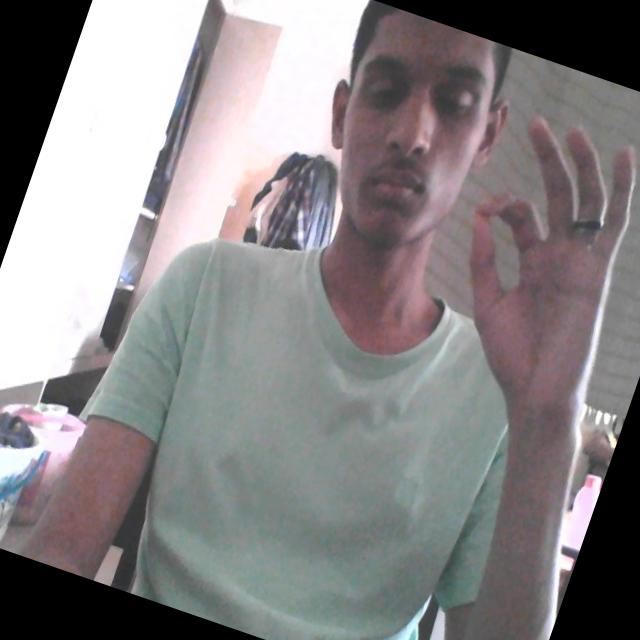Yes: (414, 79, 640, 446)
